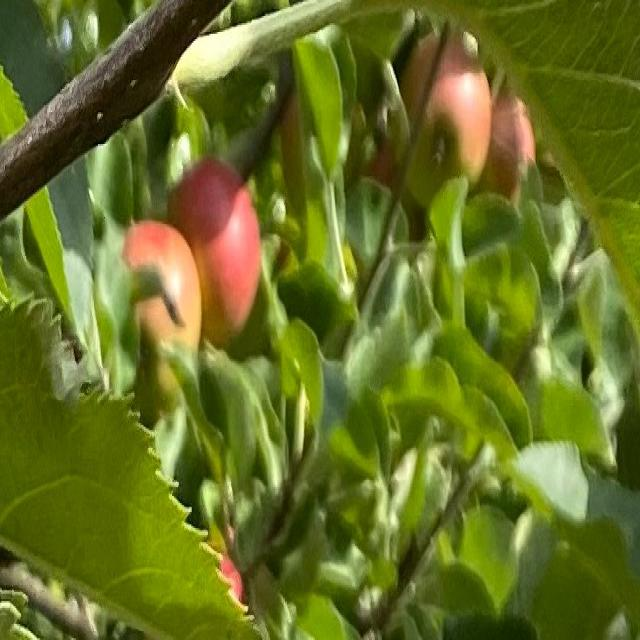Apples: (168, 156, 262, 340), (398, 32, 490, 204), (123, 221, 200, 391), (485, 98, 536, 210)
